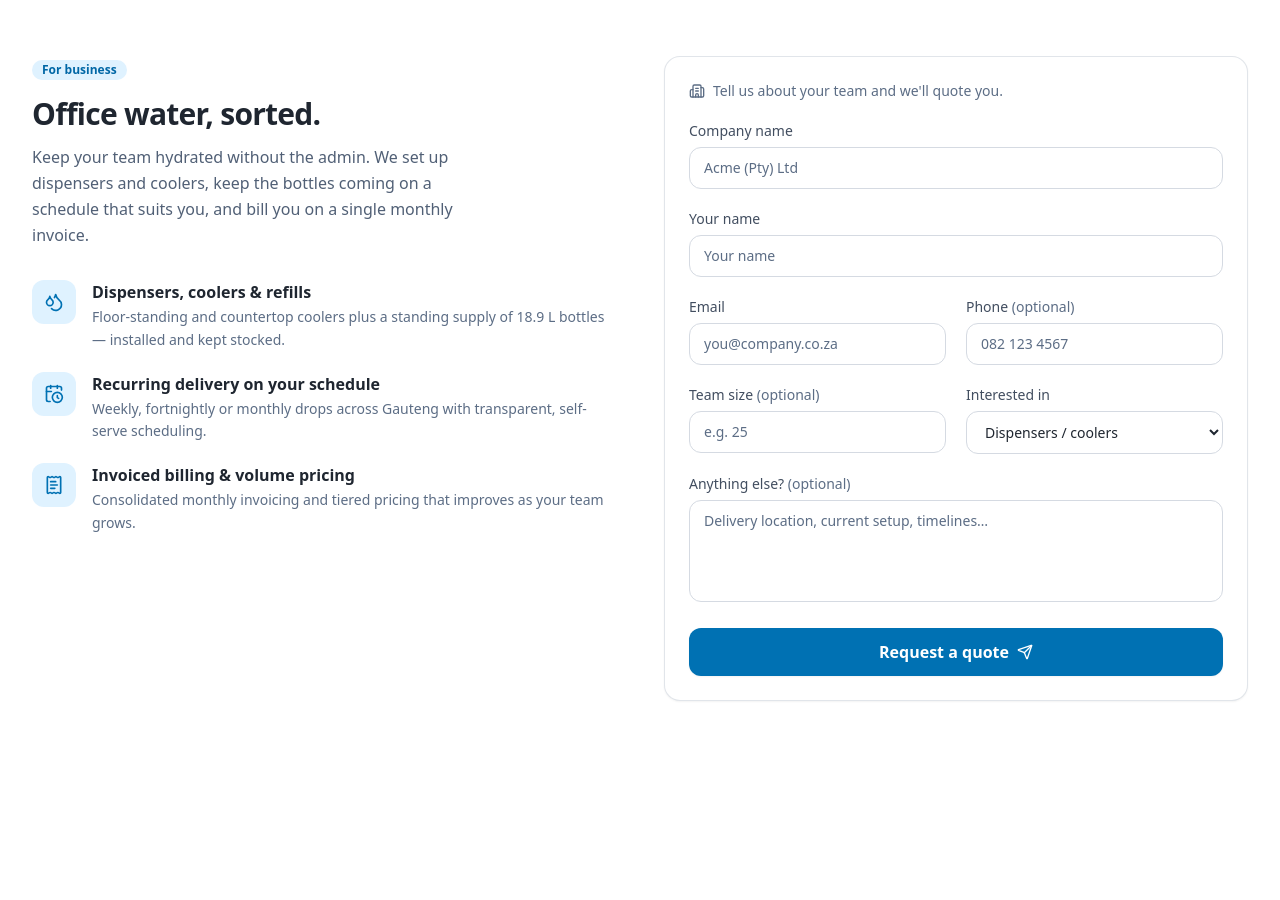
Business › shows an unavailable message when Supabase is not configured
The image size is (1280, 900).
In the field labelled "Company name": point(956, 168) 689,147 -> 1223,189, type "Acme Ltd"
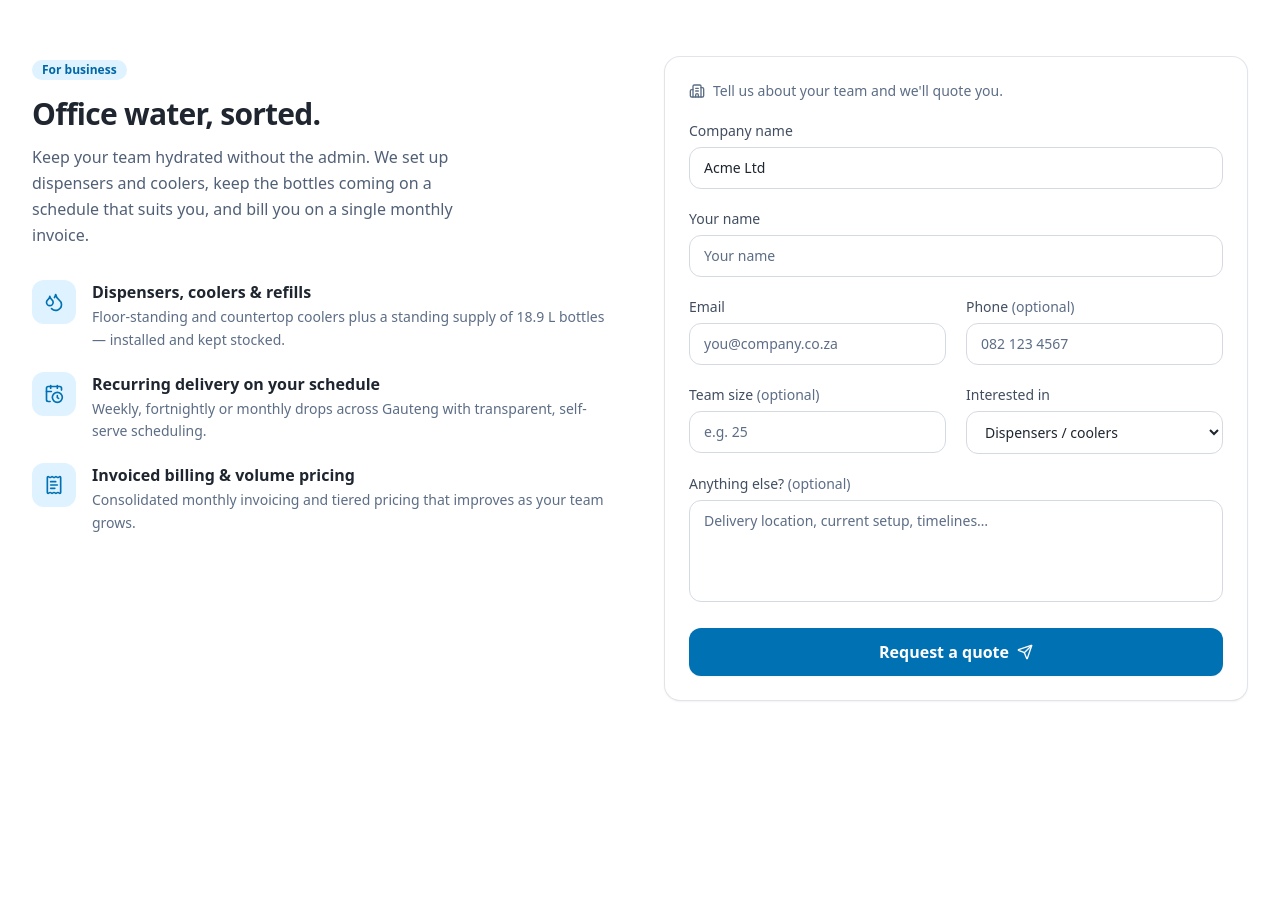
In the field labelled "Your name": point(956, 256) 689,235 -> 1223,277, type "Jane Doe"
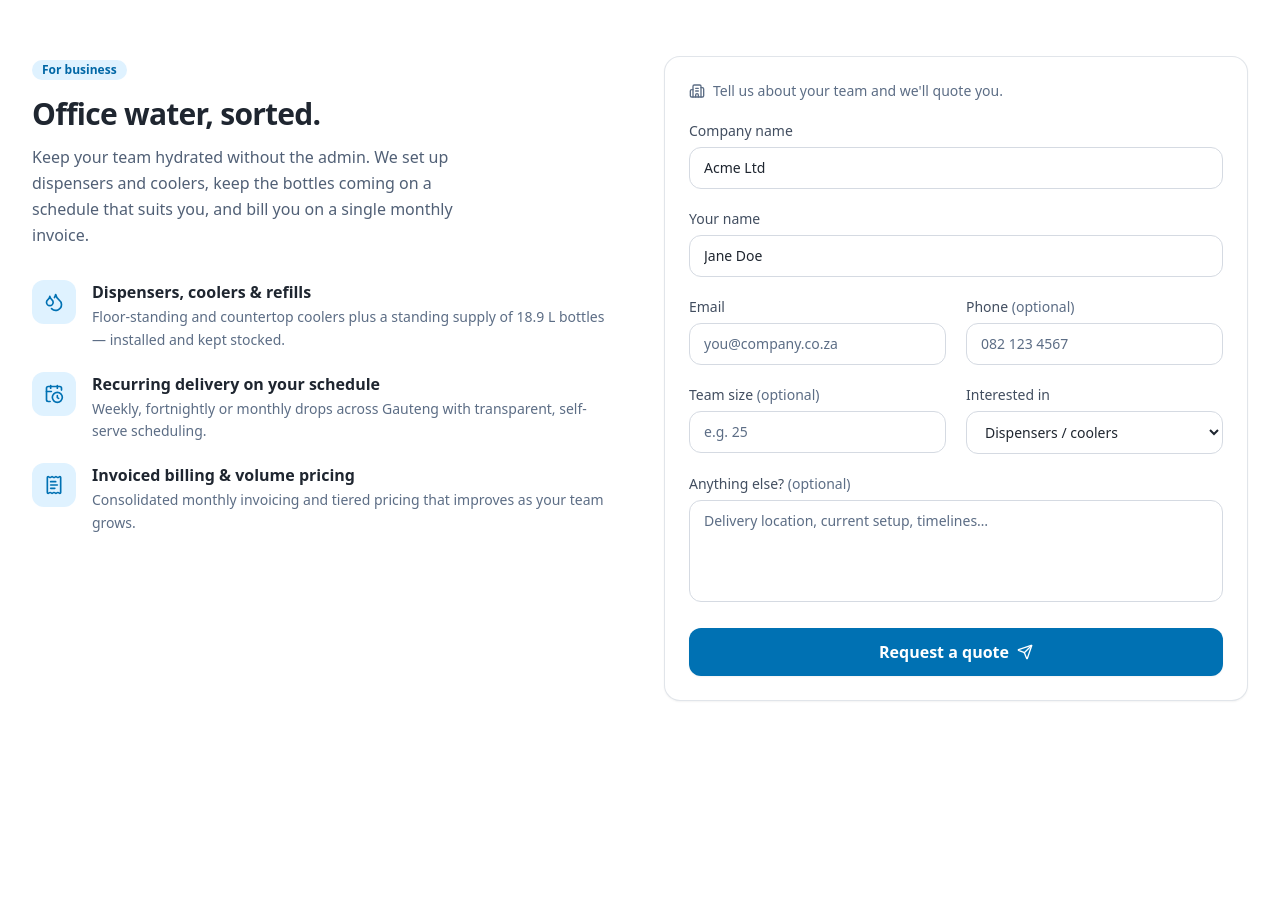
In the field labelled "Email": point(818, 344) 689,323 -> 946,365, type "jane@acme.co.za"
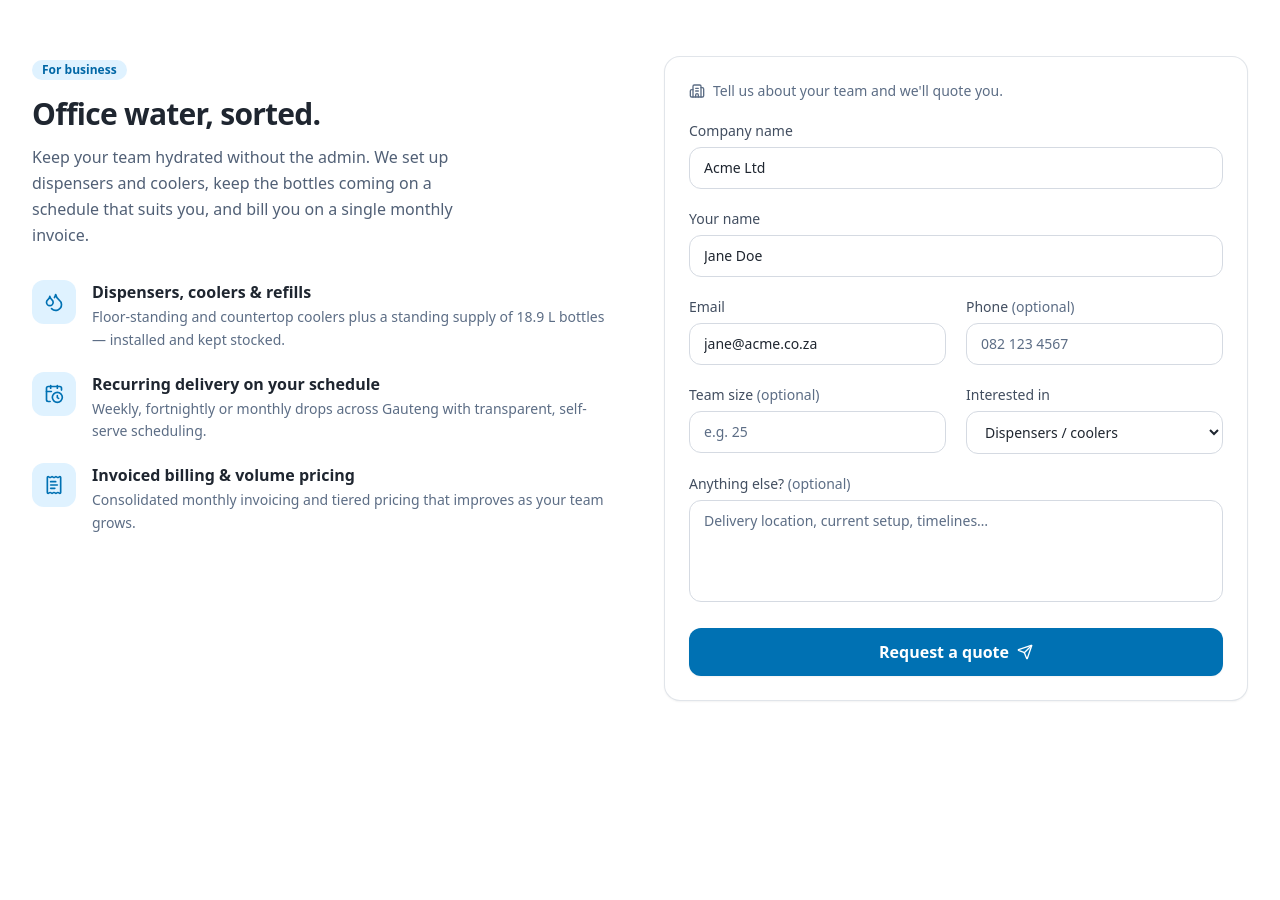
Click the button "Request a quote": point(956, 652) 689,628 -> 1223,676
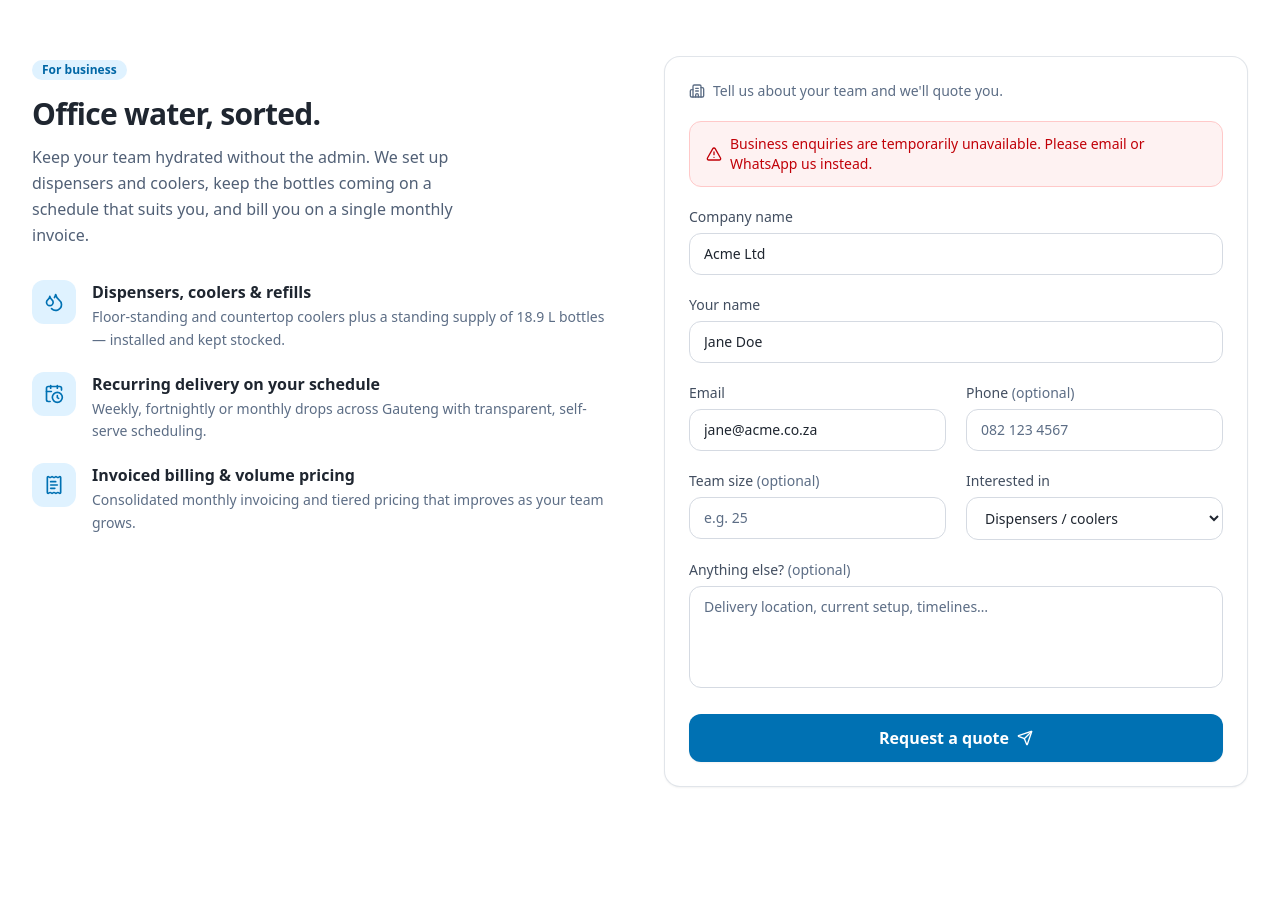
Expected: the message shows "temporarily unavailable", 730,134 -> 1145,173
